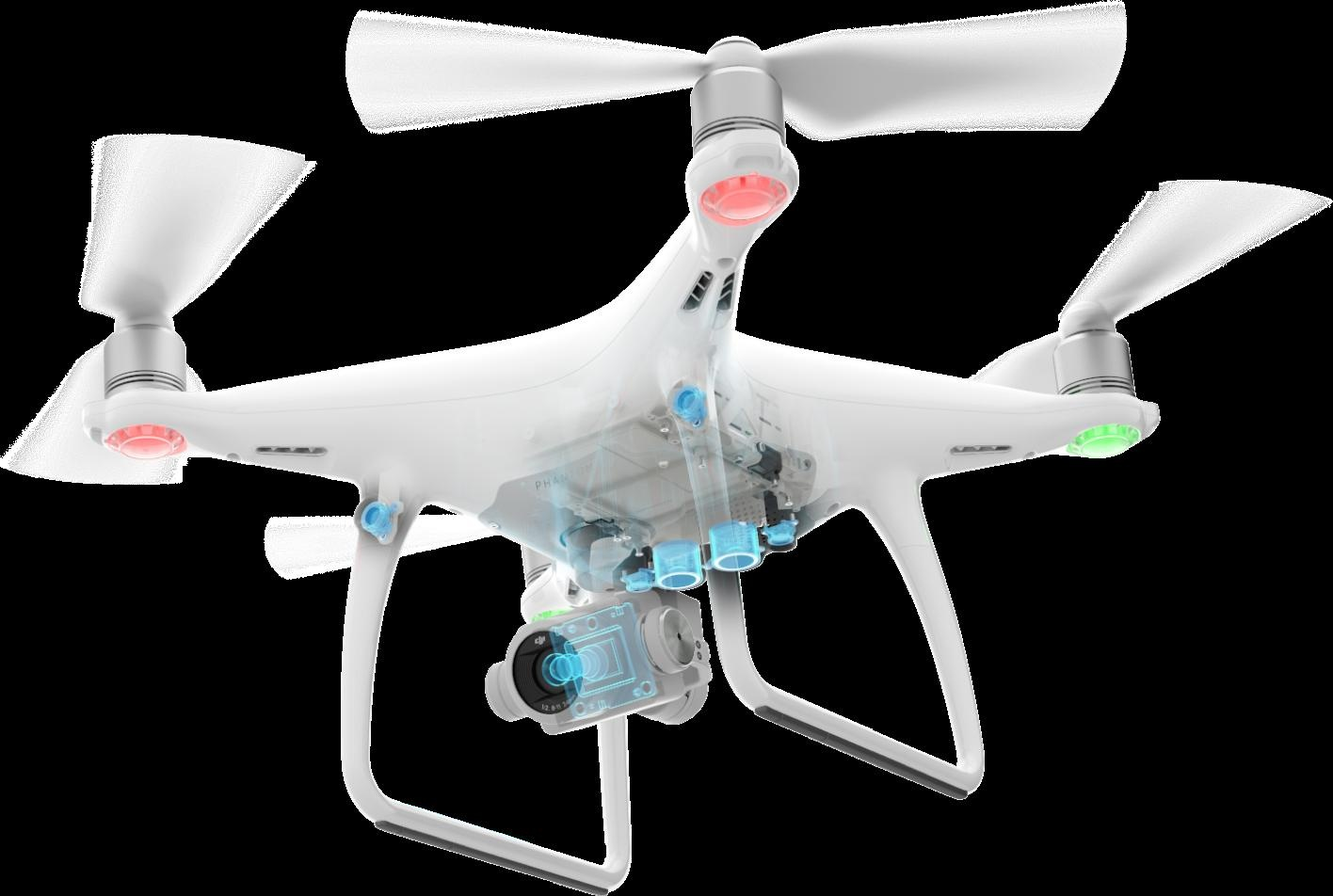aircraft: (8, 44, 1206, 859)
